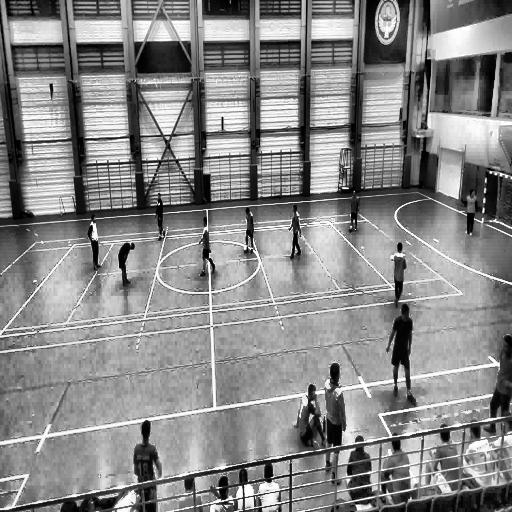ball: (244, 243, 249, 254)
player: (321, 361, 346, 486), (386, 302, 416, 403), (134, 421, 162, 507), (199, 212, 216, 276), (390, 242, 405, 306), (118, 240, 135, 286), (289, 204, 302, 258), (88, 215, 100, 271), (464, 187, 477, 236), (245, 206, 255, 254), (156, 194, 166, 240), (349, 188, 359, 232)
